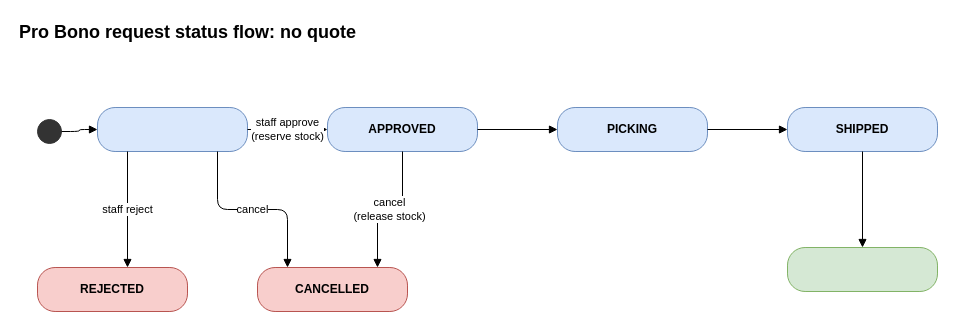
Some shapes in this 955 by 329 pixel diagram are drawn without their labels. Here are the shapes that lost their labels. From the top down, the centre of each, then its label:
At [172,129]: "SUBMITTED".
At [862,269]: "DELIVERED".
